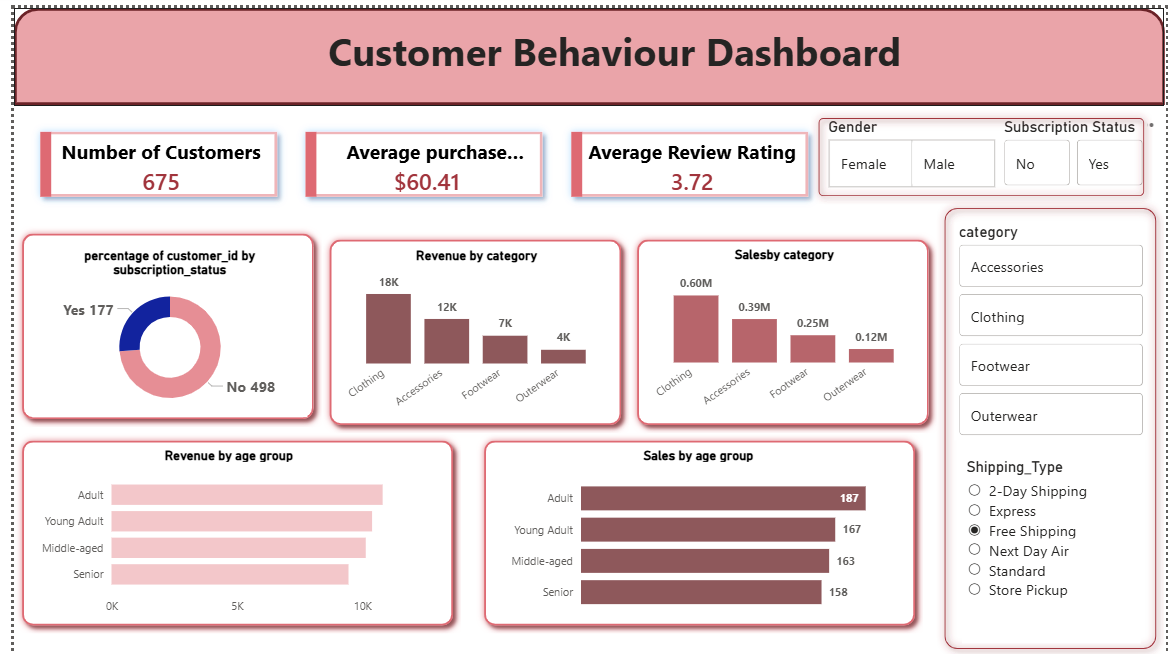

Layout of this report page (visuals, bound fields, positions):
{"tool":"powerbi","page":{"name":"Page 1","canvas":[1280,720],"ordinal":0},"visuals":[{"type":"cardVisual","fields":{"Data":["customer_behaviour customer.Number of Customers","customer_behaviour customer.Average purchase Amount","customer_behaviour customer.Average Review Rating"]},"box":[0,108,912,130],"z":0},{"type":"shape","box":[0,0,1278.8,107.7],"z":1000},{"type":"textbox","box":[260.1,13.3,815,82.8],"z":2000},{"type":"shape","box":[0,242,342,224],"z":3000},{"type":"donutChart","title":"percentage of customer_id by subscription_status","fields":{"Category":["customer_behaviour customer.subscription_status"],"Y":["CountNonNull(customer_behaviour customer.customer_id)"]},"box":[20,266,306,188],"z":4000},{"type":"shape","box":[342,248,342,224],"z":5000},{"type":"shape","box":[684,248,342,224],"z":6000},{"type":"shape","box":[0,471.9,496.9,223.4],"z":7000},{"type":"clusteredColumnChart","title":"Revenue by category","fields":{"Category":["customer_behaviour customer.category"],"Y":["Sum(customer_behaviour customer.purchase_amount)"]},"box":[360,266,308,188],"z":10000},{"type":"clusteredColumnChart","title":"Salesby category","fields":{"Category":["customer_behaviour customer.category"],"Y":["Sum(customer_behaviour customer.customer_id)"]},"box":[701.4,265.7,308.6,188.6],"z":11000},{"type":"shape","box":[1025,212.5,253.1,507.8],"z":12000},{"type":"advancedSlicerVisual","fields":{"Values":["customer_behaviour customer.gender"]},"box":[900,121.9,195.3,82.8],"z":13000},{"type":"advancedSlicerVisual","fields":{"Values":["customer_behaviour customer.subscription_status"]},"box":[1095.3,121.9,164.1,81.2],"z":14000},{"type":"advancedSlicerVisual","fields":{"Values":["customer_behaviour customer.category"]},"box":[1045.3,237.5,214.1,242.2],"z":15000},{"type":"listSlicer","fields":{"Values":["customer_behaviour customer.shipping_type"]},"box":[1053.1,500,198.4,206.2],"z":16000},{"type":"shape","box":[884.4,112.5,379.7,104.7],"z":16001},{"type":"clusteredBarChart","title":"Revenue by age group","fields":{"Category":["customer_behaviour customer.age_group"],"Y":["Sum(customer_behaviour customer.purchase_amount)"]},"box":[20.3,487.5,437.5,193.8],"z":16002},{"type":"shape","box":[512.5,471.9,496.9,223.4],"z":16003},{"type":"clusteredBarChart","title":"Sales by age group","fields":{"Category":["customer_behaviour customer.age_group"],"Y":["customer_behaviour customer.Number of Customers"]},"box":[542.2,487.5,437.5,193.8],"z":16004}]}

Visuals, with their boxes in screenshot pixels (x1, y1, x2, y2), scaled from the page's 1280x720 canvas onto the 1168x654 screenshot:
cardVisual - customer_behaviour customer.Number of Customers x customer_behaviour customer.Average purchase Amount: <bbox>0, 98, 832, 216</bbox>
shape: <bbox>0, 0, 1167, 98</bbox>
textbox: <bbox>237, 12, 981, 87</bbox>
shape: <bbox>0, 220, 312, 423</bbox>
"percentage of customer_id by subscription_status" donutChart: <bbox>18, 242, 297, 412</bbox>
shape: <bbox>312, 225, 624, 429</bbox>
shape: <bbox>624, 225, 936, 429</bbox>
shape: <bbox>0, 429, 453, 632</bbox>
"Revenue by category" clusteredColumnChart: <bbox>328, 242, 610, 412</bbox>
"Salesby category" clusteredColumnChart: <bbox>640, 241, 922, 413</bbox>
shape: <bbox>935, 193, 1166, 653</bbox>
advancedSlicerVisual - customer_behaviour customer.gender: <bbox>821, 111, 999, 186</bbox>
advancedSlicerVisual - customer_behaviour customer.subscription_status: <bbox>999, 111, 1149, 184</bbox>
advancedSlicerVisual - customer_behaviour customer.category: <bbox>954, 216, 1149, 436</bbox>
listSlicer - customer_behaviour customer.shipping_type: <bbox>961, 454, 1142, 641</bbox>
shape: <bbox>807, 102, 1153, 197</bbox>
"Revenue by age group" clusteredBarChart: <bbox>19, 443, 418, 619</bbox>
shape: <bbox>468, 429, 921, 632</bbox>
"Sales by age group" clusteredBarChart: <bbox>495, 443, 894, 619</bbox>
